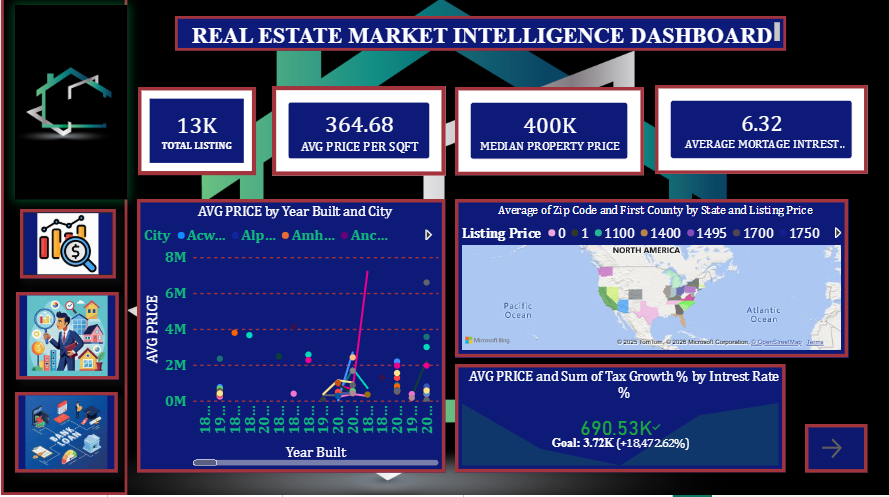

The dashboard page shown, as its layout file describes it:
{"tool":"powerbi","page":{"name":"EXECUTIVE  OVERVIEW","canvas":[1280,720],"ordinal":0},"visuals":[{"type":"textbox","box":[250,30,880,50],"z":0},{"type":"cardVisual","fields":{"Data":["MEASURE.TOTAL LISTING"]},"box":[196.6,132.3,169.8,126.9],"z":1000},{"type":"cardVisual","fields":{"Data":["MEASURE.AVG PRICE PER SQFT"]},"box":[389.7,130.5,250.3,128.7],"z":2000},{"type":"cardVisual","fields":{"Data":["MEASURE.MEDIAN PROPERTY PRICE"]},"box":[654.3,132.3,271.7,126.9],"z":3000},{"type":"cardVisual","fields":{"Data":["MEASURE.AVERAGE MORTAGE INTREST RATE"]},"box":[942,130,306,128],"z":4000},{"type":"lineChart","fields":{"Category":["FACT_PropertyListings.Year Built"],"Series":["FACT_PropertyListings.City"],"Y":["MEASURE.AVG PRICE"]},"box":[196,294,444,394],"z":5000},{"type":"shape","box":[0,0,182,720],"z":6000},{"type":"actionButton","box":[1158,618,90,70],"z":7000},{"type":"filledMap","fields":{"Category":["FACT_PropertyListings.State","FACT_PropertyListings.City"],"Series":["FACT_PropertyListings.Listing Price"],"X":["Min(FACT_PropertyListings.County)"],"Y":["Avg(FACT_PropertyListings.Zip Code)"]},"box":[654,294,566,228],"z":8000},{"type":"kpi","fields":{"Goal":["Sum(DIM_PropertyTax.Tax Growth %)"],"Indicator":["MEASURE.AVG PRICE"],"TrendLine":["DIM_MortgageRates.Intrest Rate %"]},"box":[654,532,476,156],"z":9000},{"type":"image","box":[20,572,148,116],"z":10000},{"type":"image","box":[22,428,148,126],"z":11000},{"type":"image","box":[28,308,138,100],"z":12000},{"type":"image","box":[20,14,162,280],"z":13000}]}

Visuals, with their boxes in screenshot pixels (x1, y1, x2, y2), scaled from the page's 1280x720 canvas onto the 889x497 screenshot:
textbox: 174/21/785/55
cardVisual - MEASURE.TOTAL LISTING: 137/91/254/179
cardVisual - MEASURE.AVG PRICE PER SQFT: 271/90/444/179
cardVisual - MEASURE.MEDIAN PROPERTY PRICE: 454/91/643/179
cardVisual - MEASURE.AVERAGE MORTAGE INTREST RATE: 654/90/867/178
lineChart - FACT_PropertyListings.Year Built x FACT_PropertyListings.City: 136/203/444/475
shape: 0/0/126/496
actionButton: 804/427/867/475
filledMap - FACT_PropertyListings.State x FACT_PropertyListings.City: 454/203/847/360
kpi - Sum(DIM_PropertyTax.Tax Growth %) x MEASURE.AVG PRICE: 454/367/785/475
image: 14/395/117/475
image: 15/295/118/382
image: 19/213/115/282
image: 14/10/126/203
